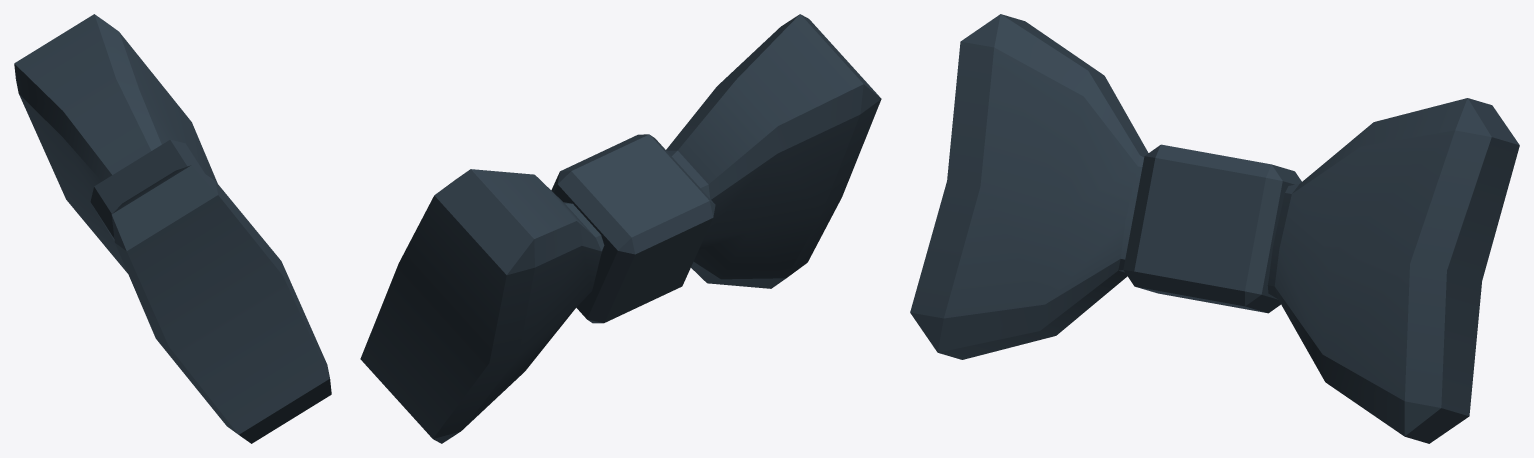
The model's file is Accesorios_Monio.fbx.
The picture shows the model from 3 angles, left to right: view 1: azimuth 30°, elevation 25°; view 2: azimuth 150°, elevation 25°; view 3: azimuth 270°, elevation 25°; orthographic projection. The views are drawn at different scales.
Parts seen in each view (by area): view 1: pCube9, pCube10; view 2: pCube9, pCube10; view 3: pCube9, pCube10.
Boxes of the visible parts, left/top/right/bottom form: pCube9: left=14, top=14, right=331, bottom=443; pCube10: left=90, top=139, right=204, bottom=240; pCube9: left=360, top=14, right=881, bottom=443; pCube10: left=551, top=134, right=715, bottom=323; pCube9: left=910, top=14, right=1519, bottom=443; pCube10: left=1123, top=144, right=1301, bottom=313.
Bounding box in the file's own units: 0.7464 × 0.7411 × 1.18.
